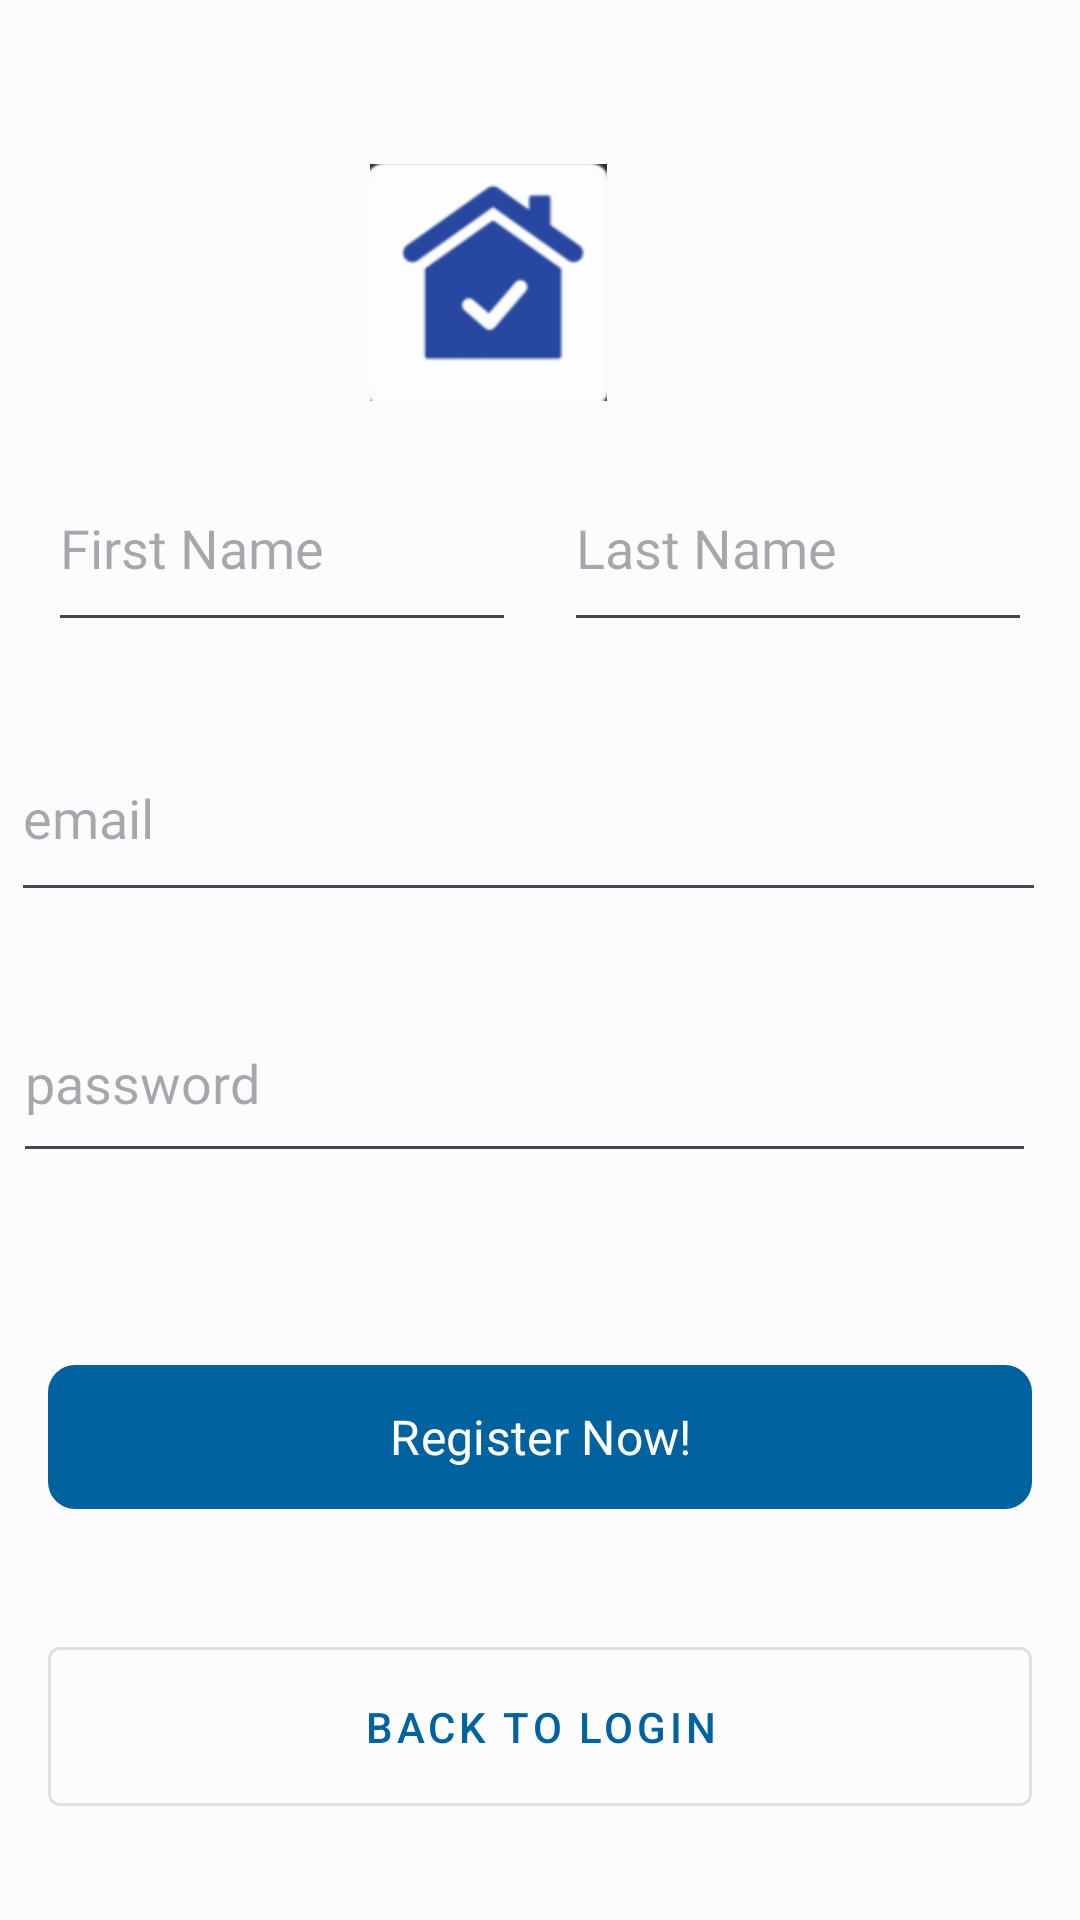

Icons on this 1080px×1920px Android screen, each with its box as (x1, y1, x2, y2):
house: (370, 164, 607, 401)
